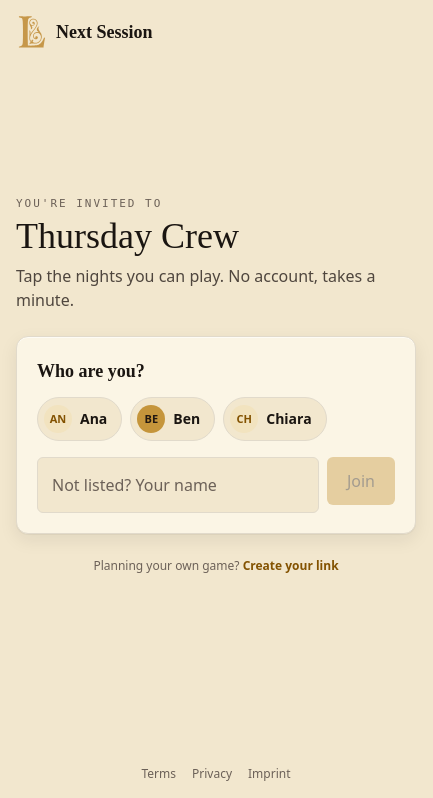
Scenario: Join › explains a {"code":"RATE_LIMITED","retryAfter":1000} refusal
Type "Dev" into the field labelled "Not listed? Your name" at (178, 485), box [37,457,319,513]
Then press Enter
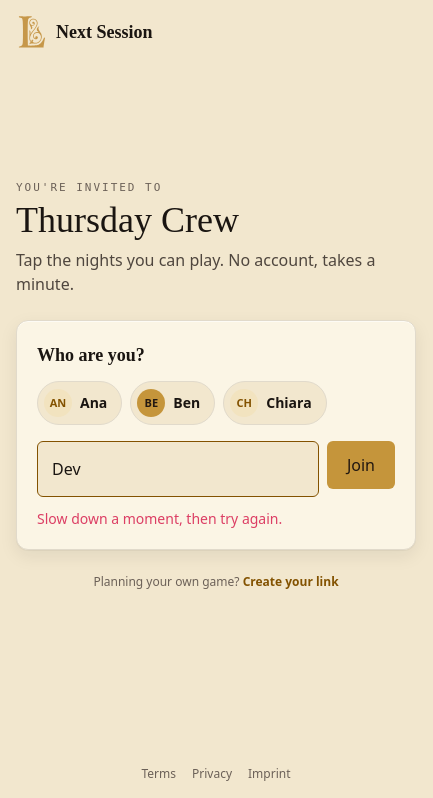
Now the text "Slow down a moment, then try again." is shown, box [37,509,282,528]
Now the button "Join" is enabled, box [327,441,395,489]
